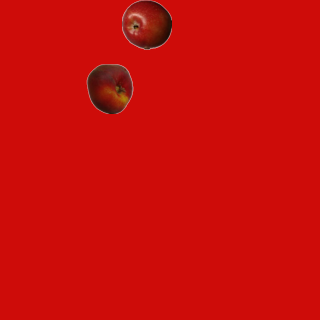Apple Braeburn: (121, 0, 171, 49)
Nectarine Flat: (84, 63, 134, 113)
